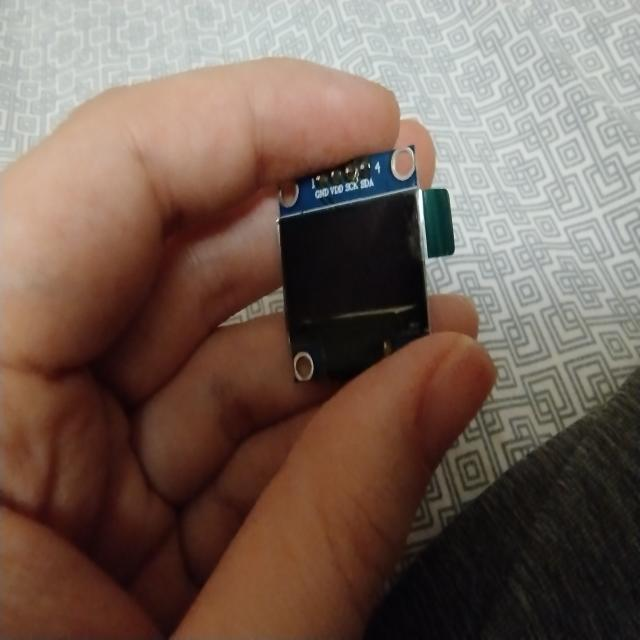oled: (273, 142, 463, 390)
